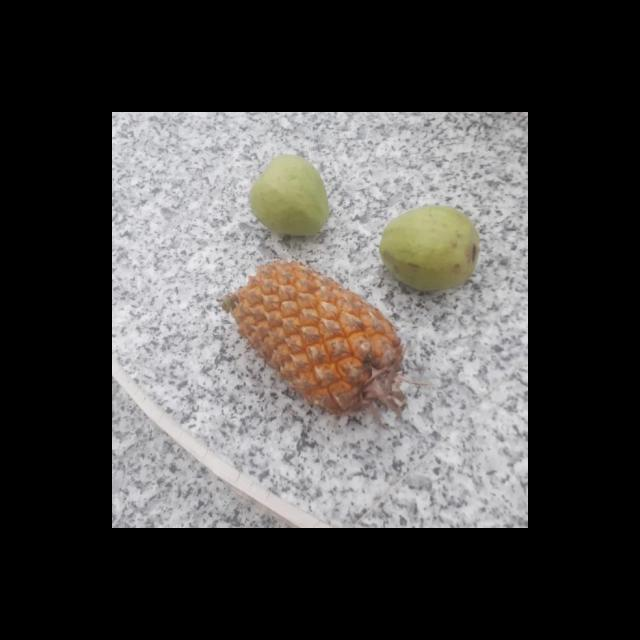guava: (375, 205, 479, 288), (248, 154, 330, 238)
pineapple: (220, 258, 412, 415)
